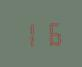one: (19, 20, 40, 47)
six: (41, 19, 62, 46)
